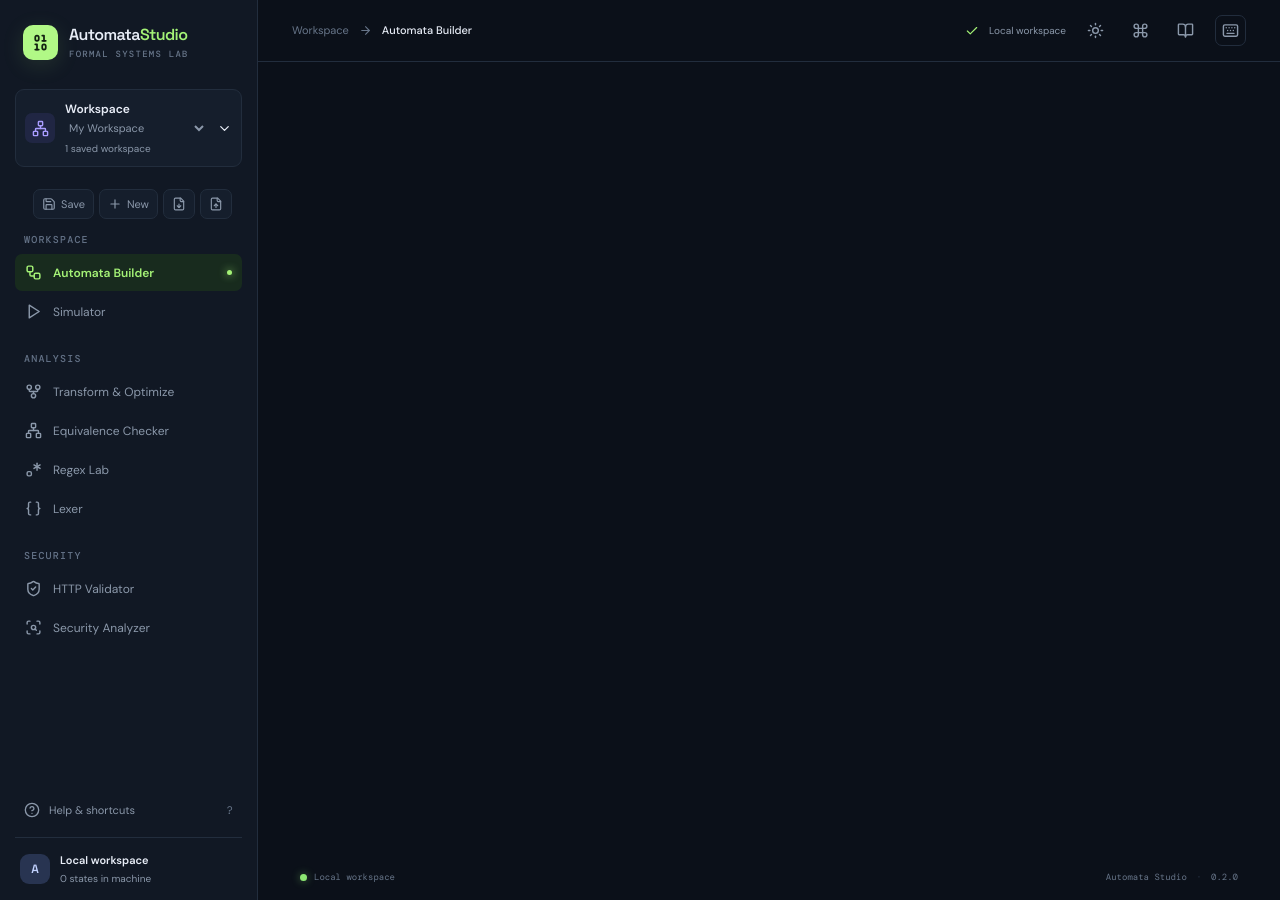
Test case: Automata Studio shell › switches to the simulator page from the sidebar
The image size is (1280, 900).
Click the button "Simulator" at (128, 312), box x1=15 y1=293 x2=242 y2=330
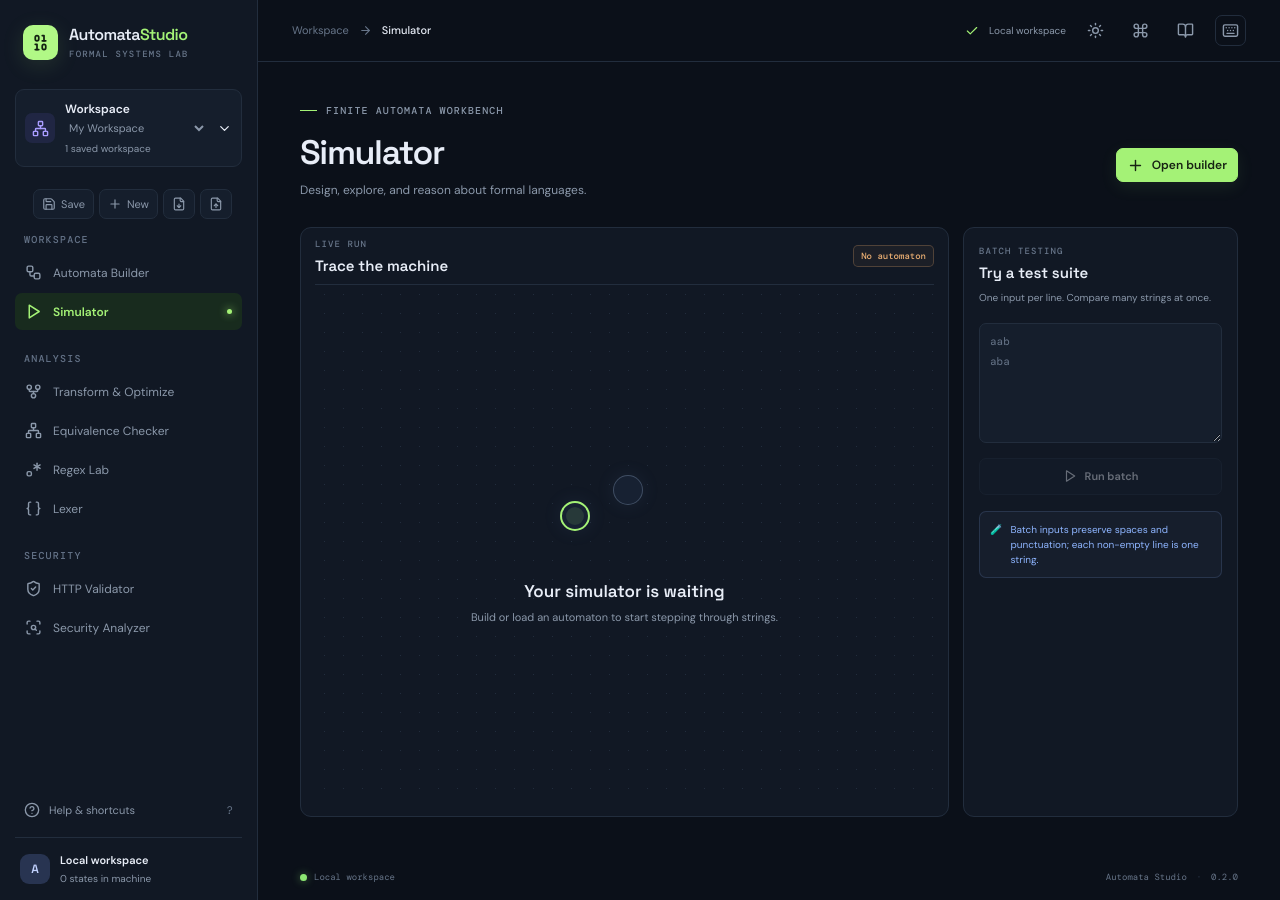
Expected: the heading "Simulator" is shown, x1=300 y1=131 x2=444 y2=174
Expected: the heading "Trace the machine" is shown, x1=315 y1=256 x2=448 y2=274
